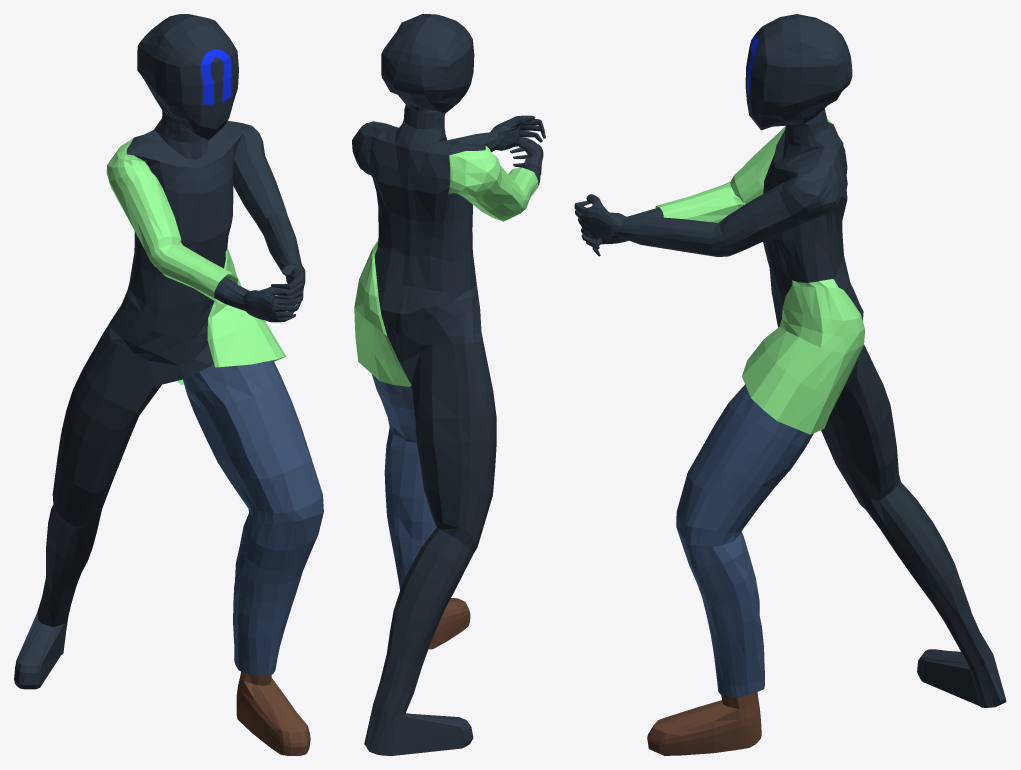
The model's file is Mar_Attack_000003.obj.
The picture shows the model from 3 angles, left to right: view 1: azimuth 30°, elevation 25°; view 2: azimuth 150°, elevation 25°; view 3: azimuth 270°, elevation 25°; orthographic projection. The views are drawn at different scales.
Parts seen in each view (by area): view 1: Cube.000_Cube.001; view 2: Cube.000_Cube.001; view 3: Cube.000_Cube.001.
Boxes of the visible parts, x1=… form: Cube.000_Cube.001: x1=14, y1=14, x2=323, y2=755; Cube.000_Cube.001: x1=352, y1=14, x2=545, y2=755; Cube.000_Cube.001: x1=574, y1=14, x2=1006, y2=755.
Bounding box in the file's own units: 1.1 × 3.75 × 2.06.
